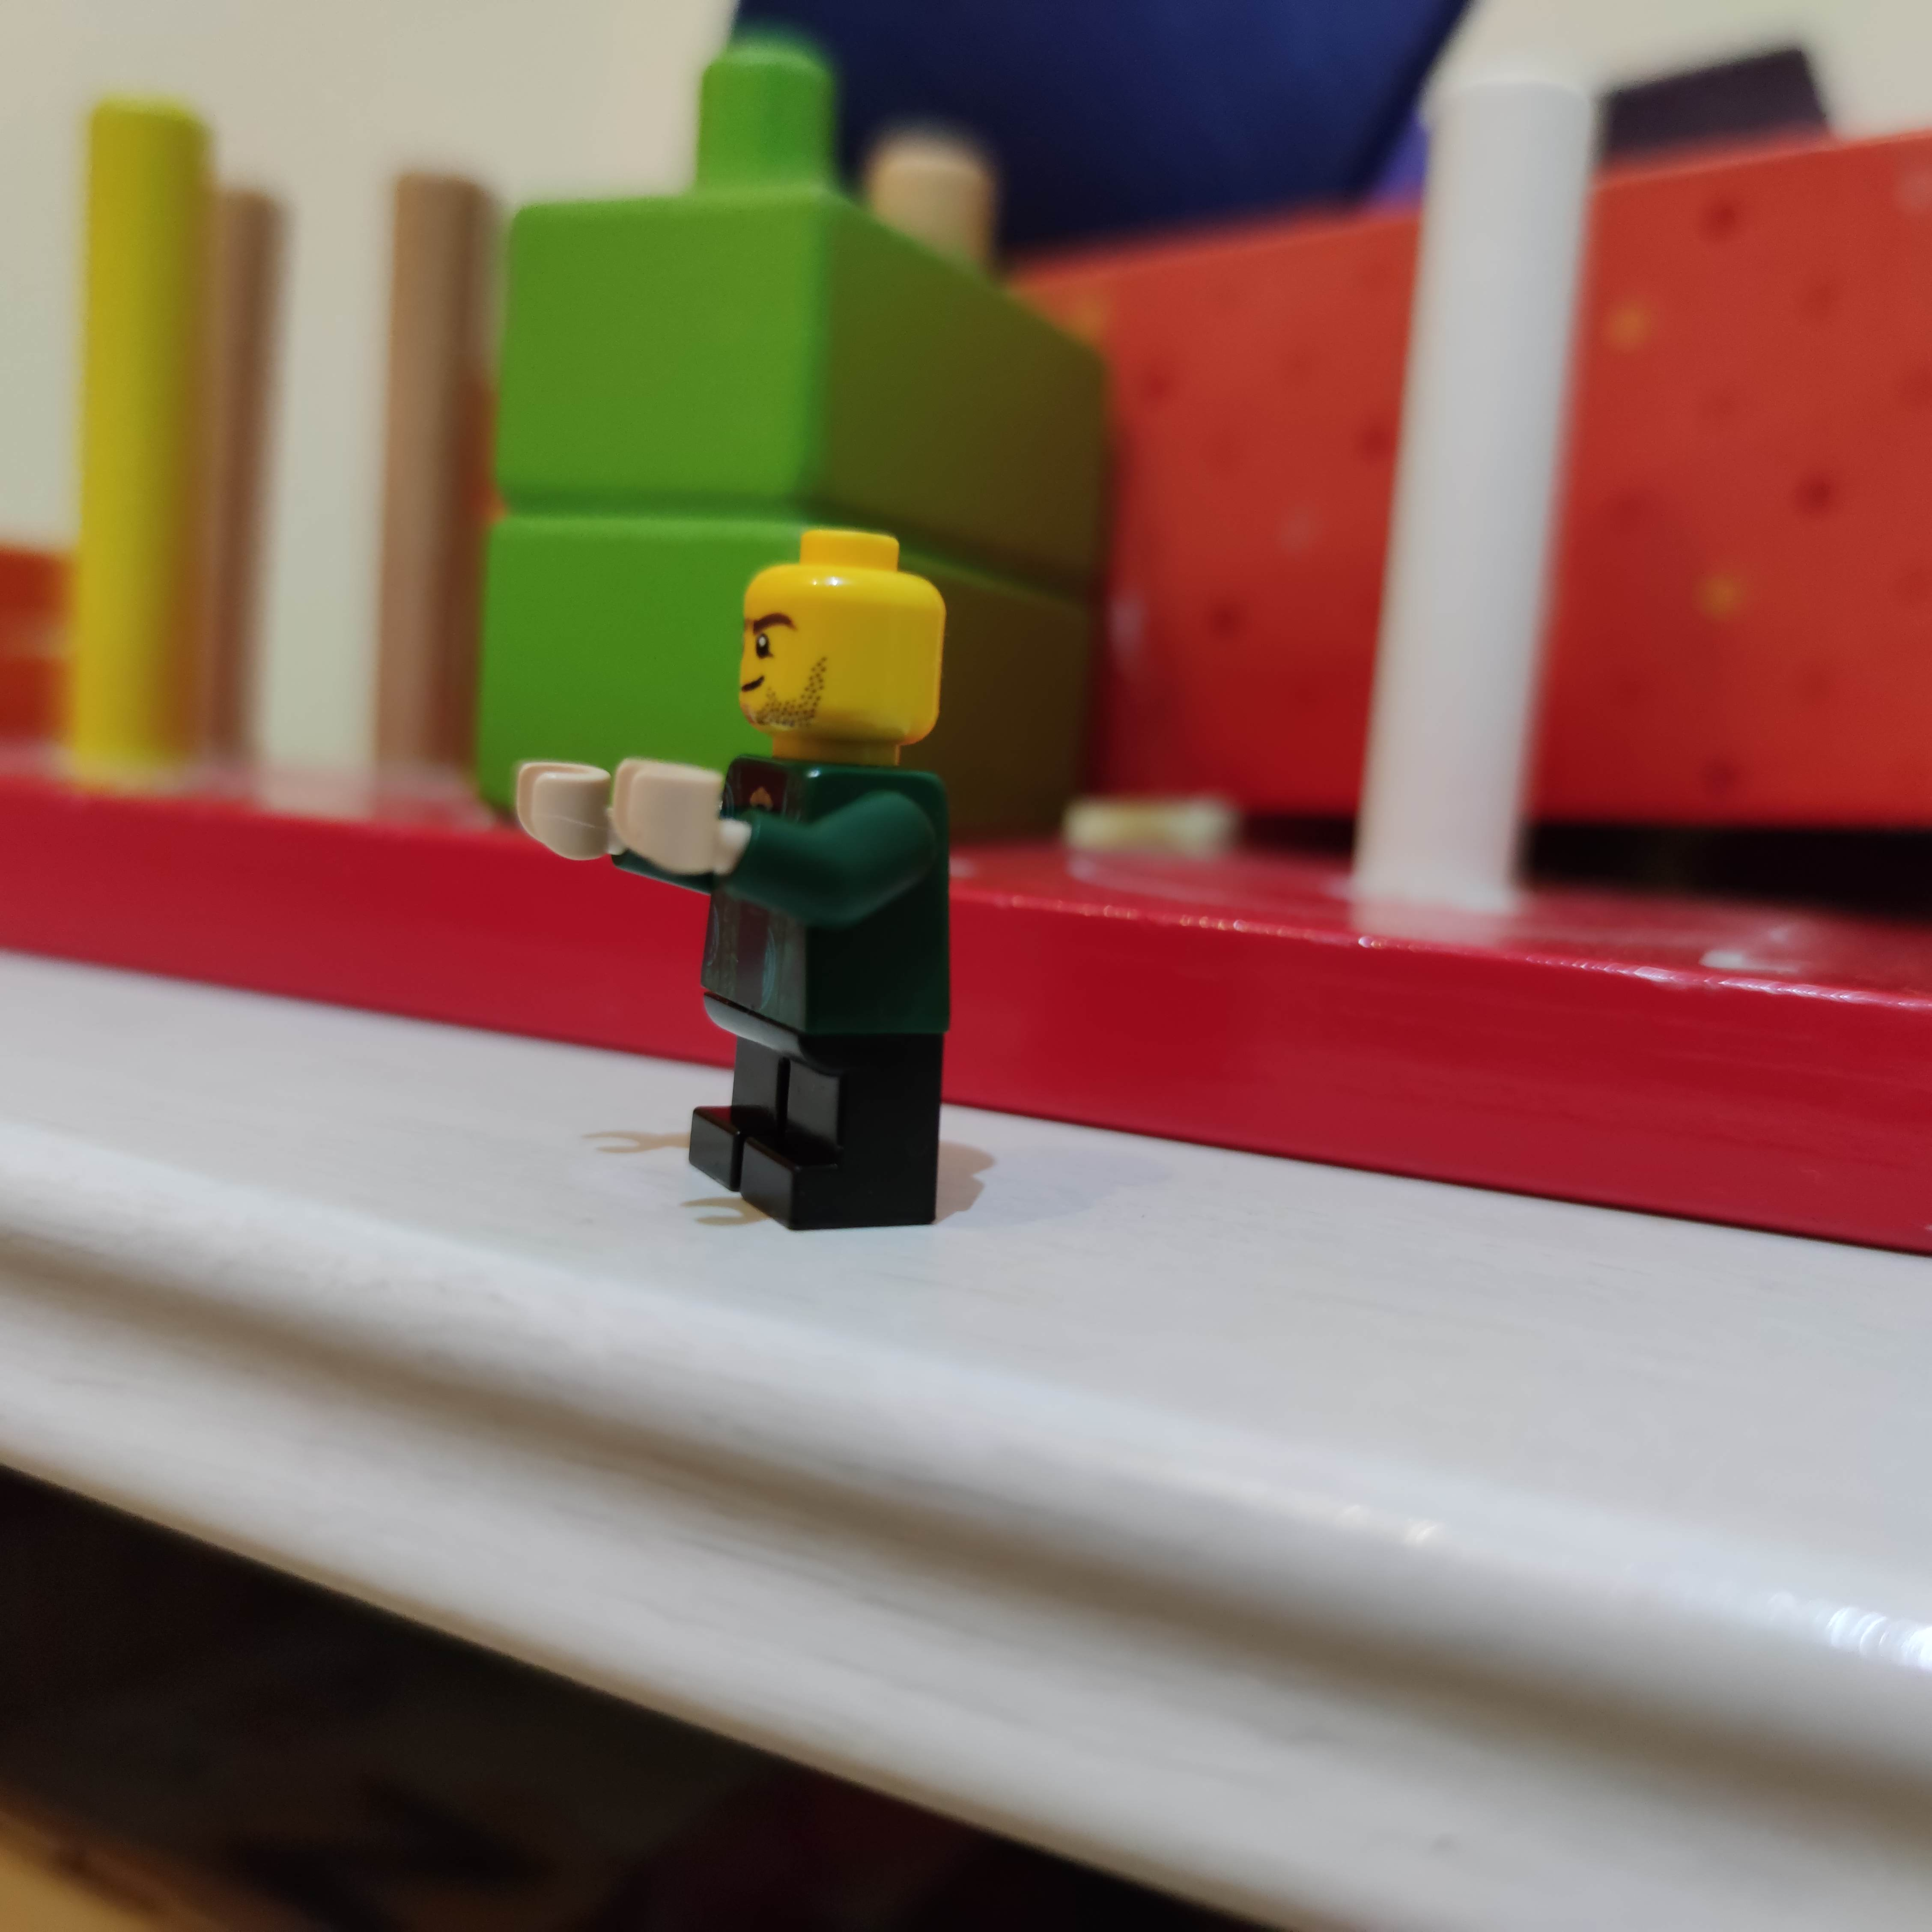lego: (511, 518, 966, 1226)
